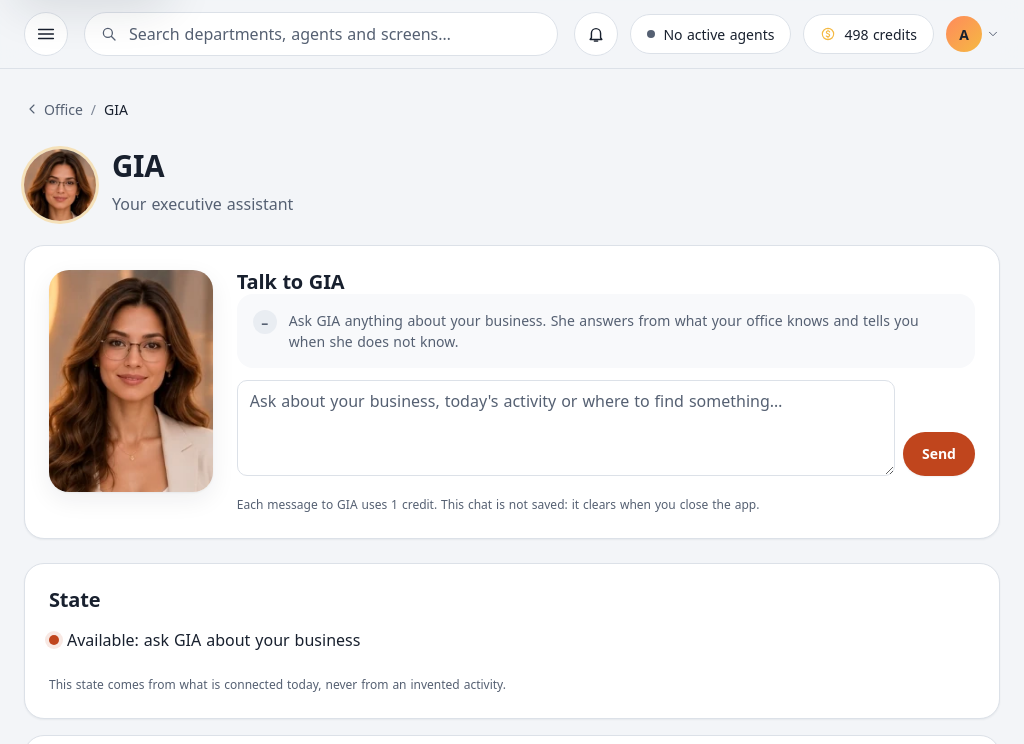
GIA's Workplace (ADR-0050) › reads the balance again after she answers, so the top bar shows what is left
Replace the text in the text box named "Your message to GIA" with "Hola" at {"x": 566, "y": 428}, box [237, 380, 895, 476]
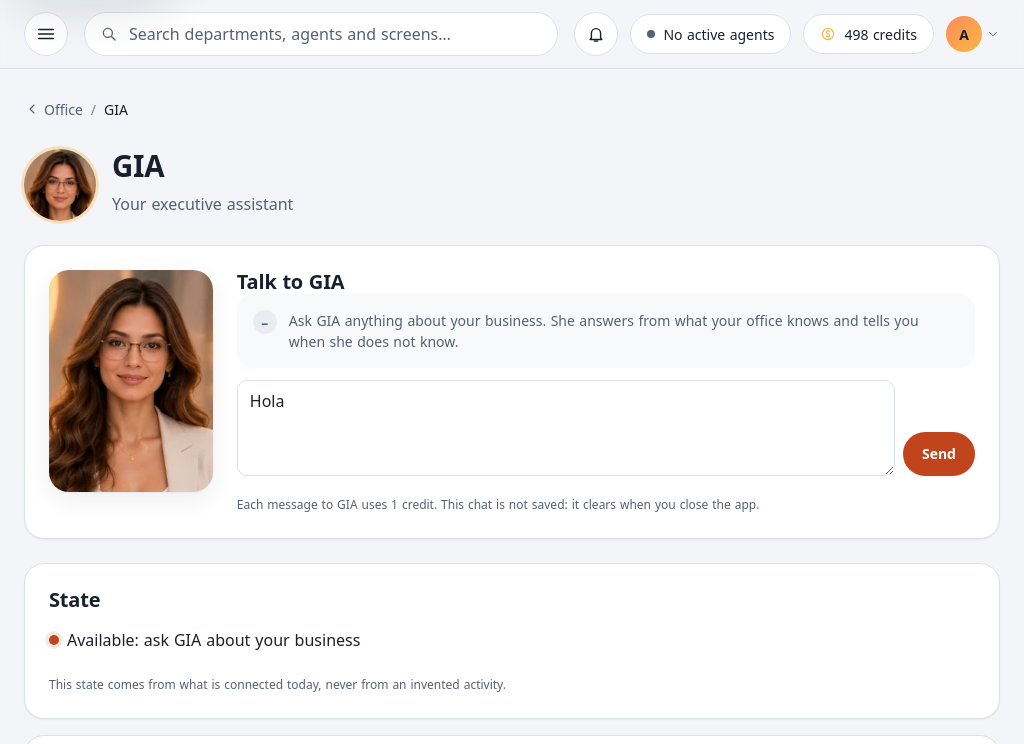
Click the button "Send".
click(939, 454)  # box [903, 432, 975, 476]
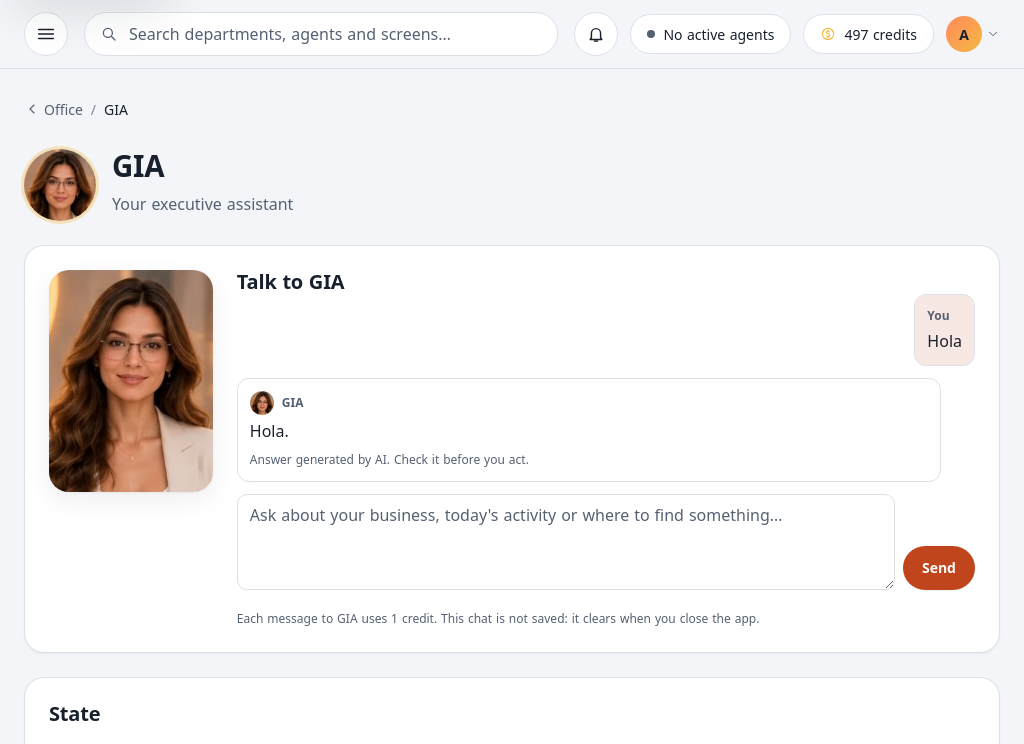
Now the text "Hola." is shown, box [250, 420, 289, 442]
Now the element with class "topbar__credits" shows "497", box [844, 24, 917, 44]
